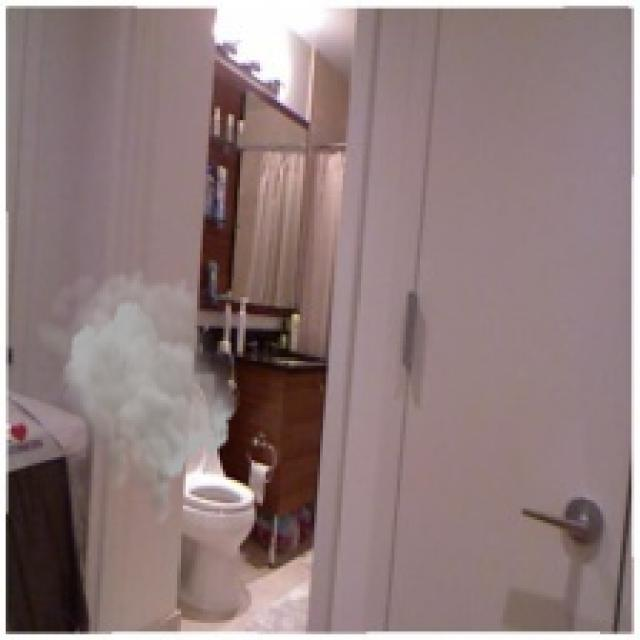smoke: (34, 266, 240, 528)
